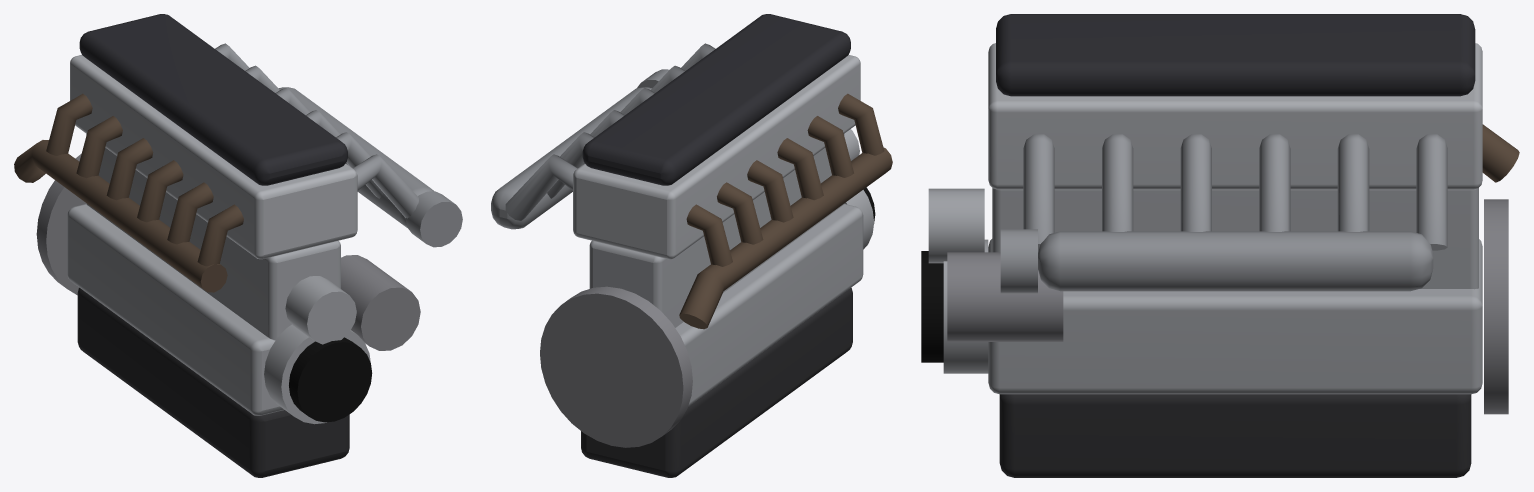
The picture shows the model from 3 angles, left to right: view 1: azimuth 30°, elevation 25°; view 2: azimuth 150°, elevation 25°; view 3: azimuth 270°, elevation 25°; orthographic projection. The views are drawn at different scales.
Visible parts, largest first — view 1: n52b30_3l_na; view 2: n52b30_3l_na; view 3: n52b30_3l_na.
Part boxes in pixels (box(x1,y1,x2,y2)): n52b30_3l_na: box(14, 14, 462, 477); n52b30_3l_na: box(491, 14, 892, 477); n52b30_3l_na: box(921, 14, 1519, 477).
Size of the model in its own units: 0.5076 by 0.6104 by 0.8009.
